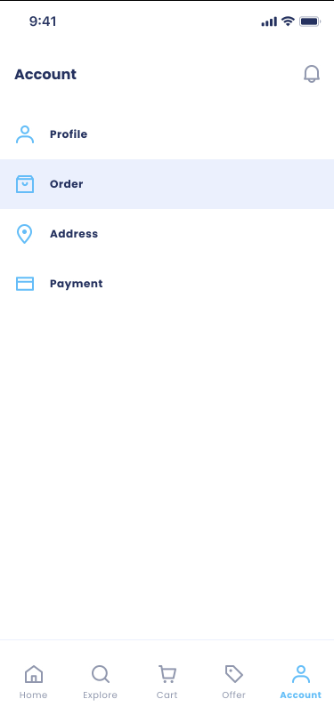BottomBar: (1, 636, 334, 722)
